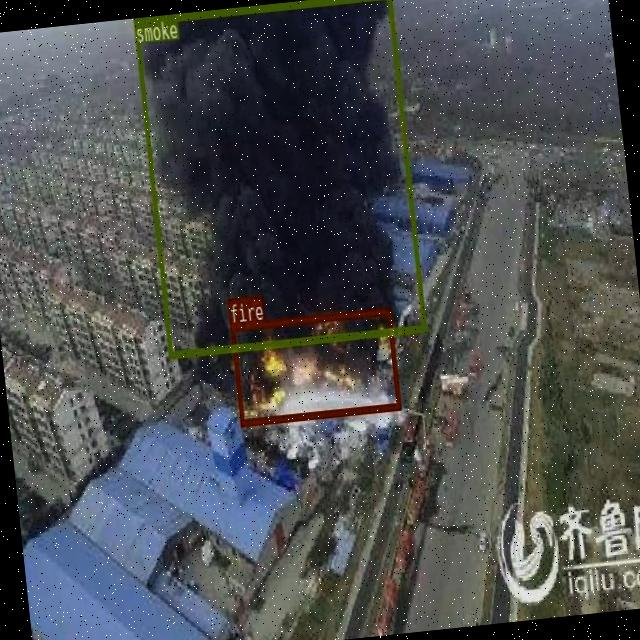fire: (229, 306, 400, 425)
smoke: (132, 0, 425, 356)
